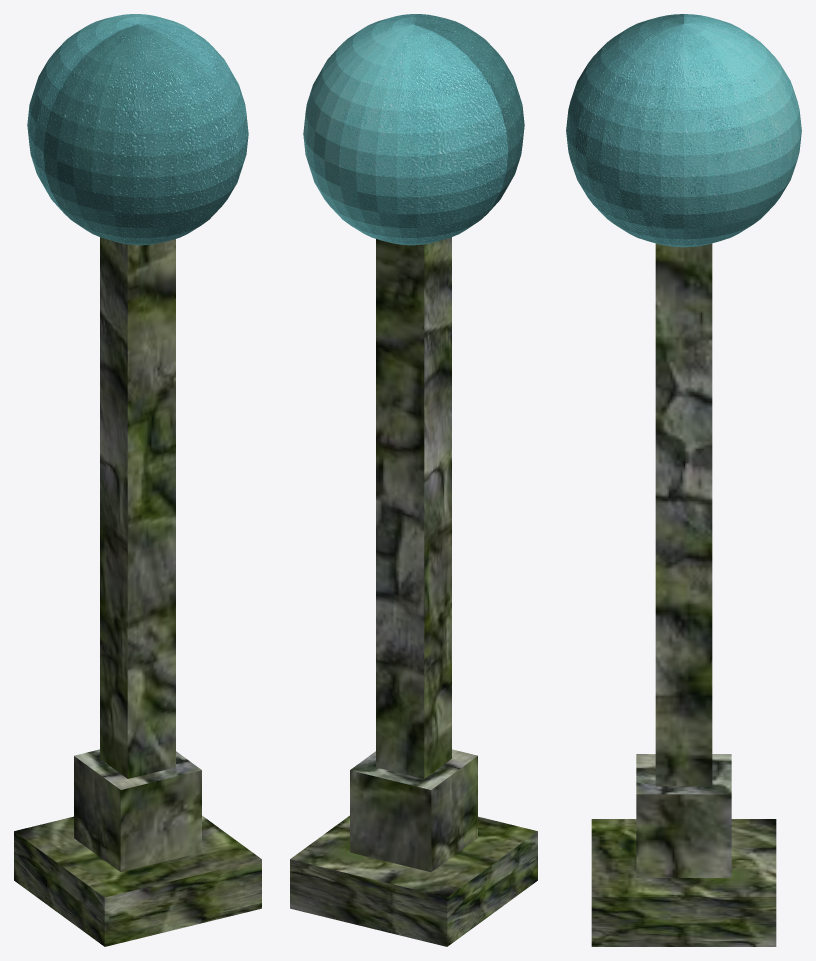
File: LamparaAzul.obj
3 renders of one model, left to right at view 1: azimuth 30°, elevation 25°; view 2: azimuth 150°, elevation 25°; view 3: azimuth 270°, elevation 25°, orthographic.
Visible parts, largest first — view 1: Cube_Cube.001, Sphere; view 2: Cube_Cube.001, Sphere; view 3: Cube_Cube.001, Sphere.
Boxes of the visible parts, x1,y1,x2,y2 form: Cube_Cube.001: (14,237,261,946); Sphere: (27,14,248,245); Cube_Cube.001: (290,237,537,946); Sphere: (303,14,524,245); Cube_Cube.001: (591,243,776,946); Sphere: (566,14,801,247).
Bounding box in the file's own units: 2.4 × 10.58 × 2.56.
